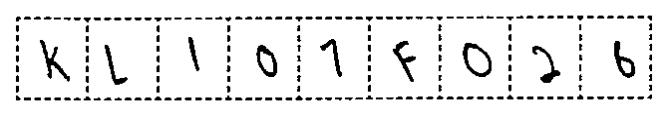0: (457, 38, 497, 83), (246, 38, 285, 84)
1: (174, 32, 210, 79)
2: (525, 37, 565, 87)
6: (604, 34, 646, 86)
7: (317, 34, 350, 86)
F: (387, 37, 426, 87)
K: (28, 35, 78, 88)
L: (96, 40, 136, 92)
